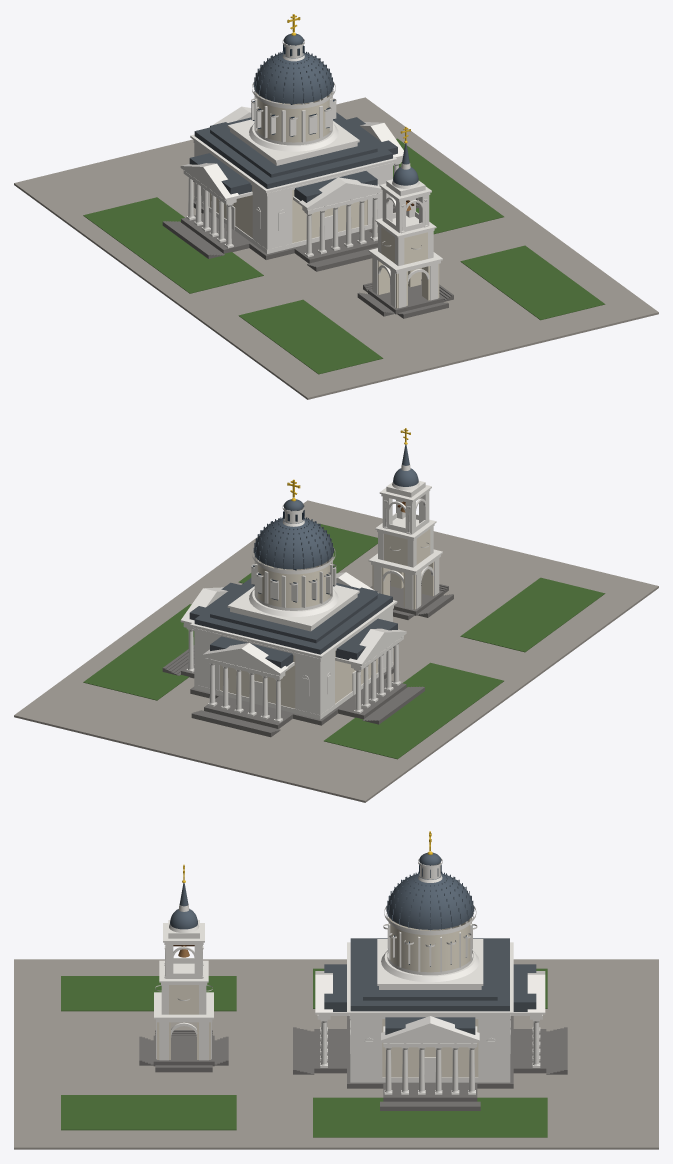
File: cathedral_chisinau.obj
The picture shows the model from 3 angles, top to bottom: view 1: azimuth 30°, elevation 25°; view 2: azimuth 150°, elevation 25°; view 3: azimuth 270°, elevation 25°; orthographic projection. The views are drawn at different scales.
Visible parts, largest first — view 1: Plaza_Paving, Stone_White, Park_Lawn, Roof_Zinc, Wall_Cream, Stylobate_Granite, Dome_Metal; view 2: Plaza_Paving, Stone_White, Park_Lawn, Roof_Zinc, Stylobate_Granite, Wall_Cream, Dome_Metal; view 3: Plaza_Paving, Stone_White, Park_Lawn, Stylobate_Granite, Roof_Zinc, Wall_Cream, Dome_Metal.
Part boxes in pixels (x1,y1,x2,y2): Plaza_Paving: (14, 97, 658, 399); Stone_White: (180, 39, 442, 307); Park_Lawn: (83, 138, 605, 374); Roof_Zinc: (189, 112, 397, 202); Wall_Cream: (209, 92, 439, 308); Stylobate_Granite: (162, 181, 453, 318); Dome_Metal: (253, 33, 418, 185); Plaza_Paving: (14, 500, 658, 802); Stone_White: (180, 464, 442, 722); Park_Lawn: (83, 523, 605, 759); Roof_Zinc: (189, 578, 397, 668); Stylobate_Granite: (162, 580, 453, 737); Wall_Cream: (220, 529, 433, 708); Dome_Metal: (253, 444, 418, 569); Plaza_Paving: (14, 959, 658, 1149); Stone_White: (154, 858, 545, 1094); Park_Lawn: (61, 968, 547, 1137); Stylobate_Granite: (139, 1016, 567, 1110); Roof_Zinc: (324, 938, 536, 1034); Wall_Cream: (157, 917, 478, 1077); Dome_Metal: (170, 852, 474, 930).
Bounding box in the file's own units: 76 × 42.15 × 110.
